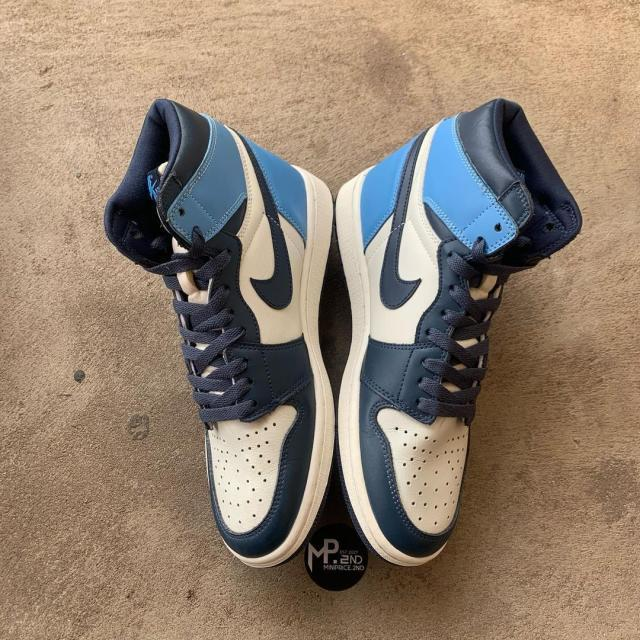nike original jordan 1: (332, 98, 582, 571), (107, 99, 344, 568)
